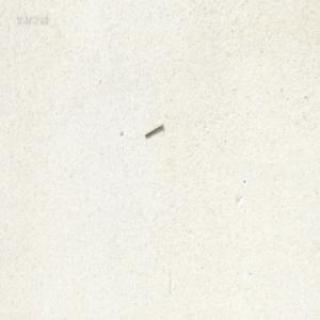Bolttrack_idkeyframe: (142, 121, 162, 136)
